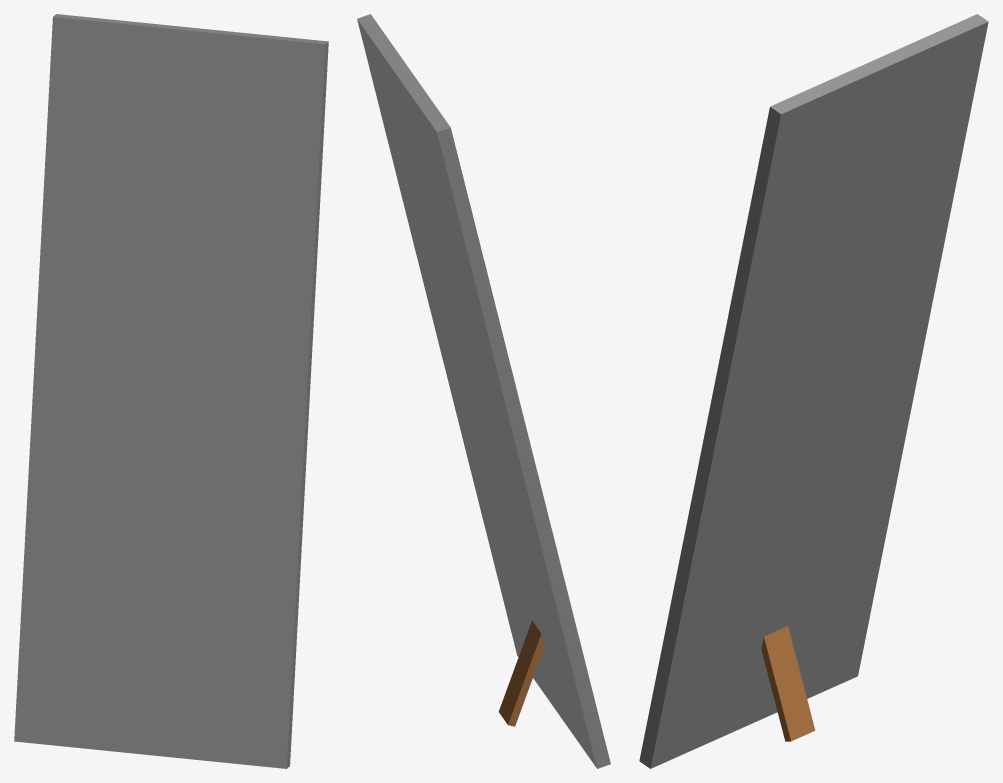
The model's file is MSH_Espejo.FBX.
The picture shows the model from 3 angles, left to right: view 1: azimuth 30°, elevation 25°; view 2: azimuth 150°, elevation 25°; view 3: azimuth 270°, elevation 25°; orthographic projection. The views are drawn at different scales.
Parts seen in each view (by area): view 1: Box007; view 2: Box007; view 3: Box007.
Part boxes in pixels (x1,y1,x2,y2): Box007: (14,14,328,768); Box007: (357,14,610,768); Box007: (639,14,988,768).
Size of the model in its own units: 8.43 by 18.68 by 8.33.
